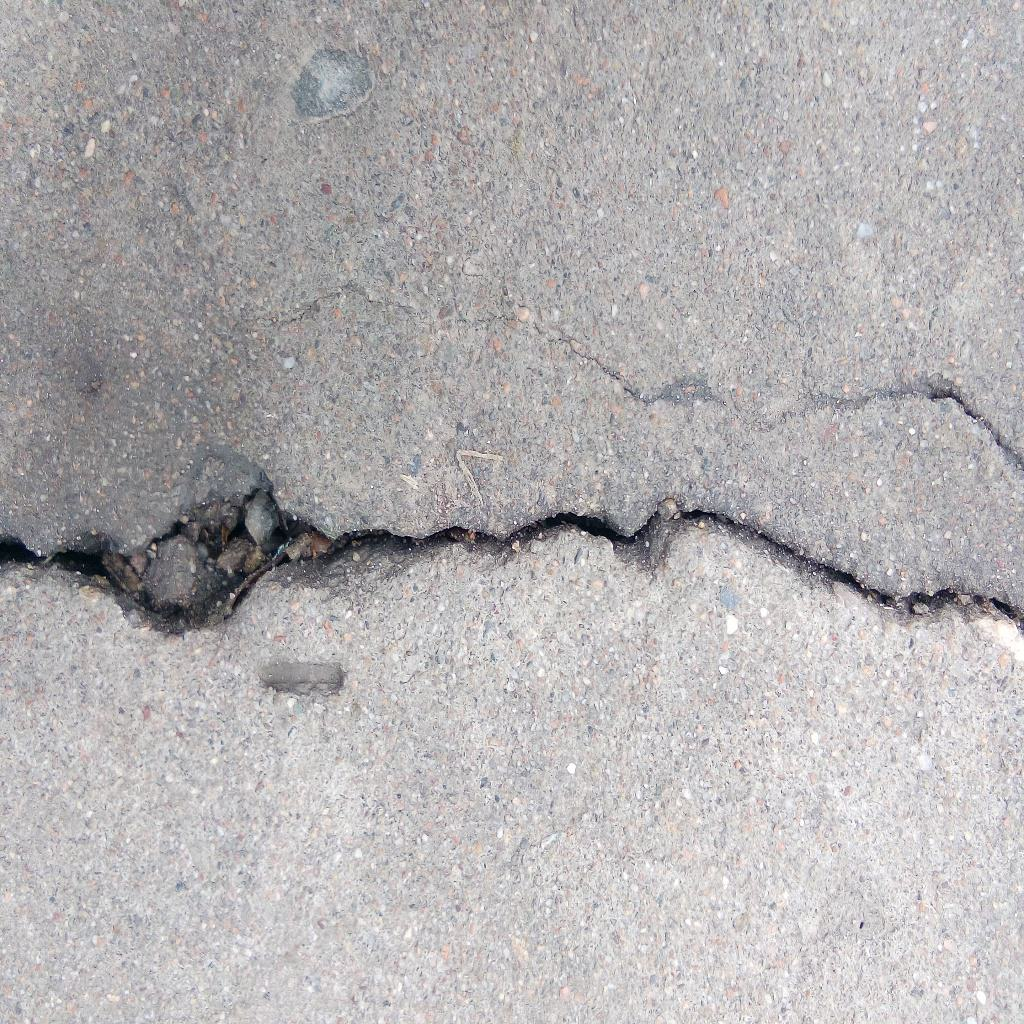Crack: (1, 473, 1024, 637), (257, 278, 1024, 474)
Spalling: (258, 662, 344, 697)
